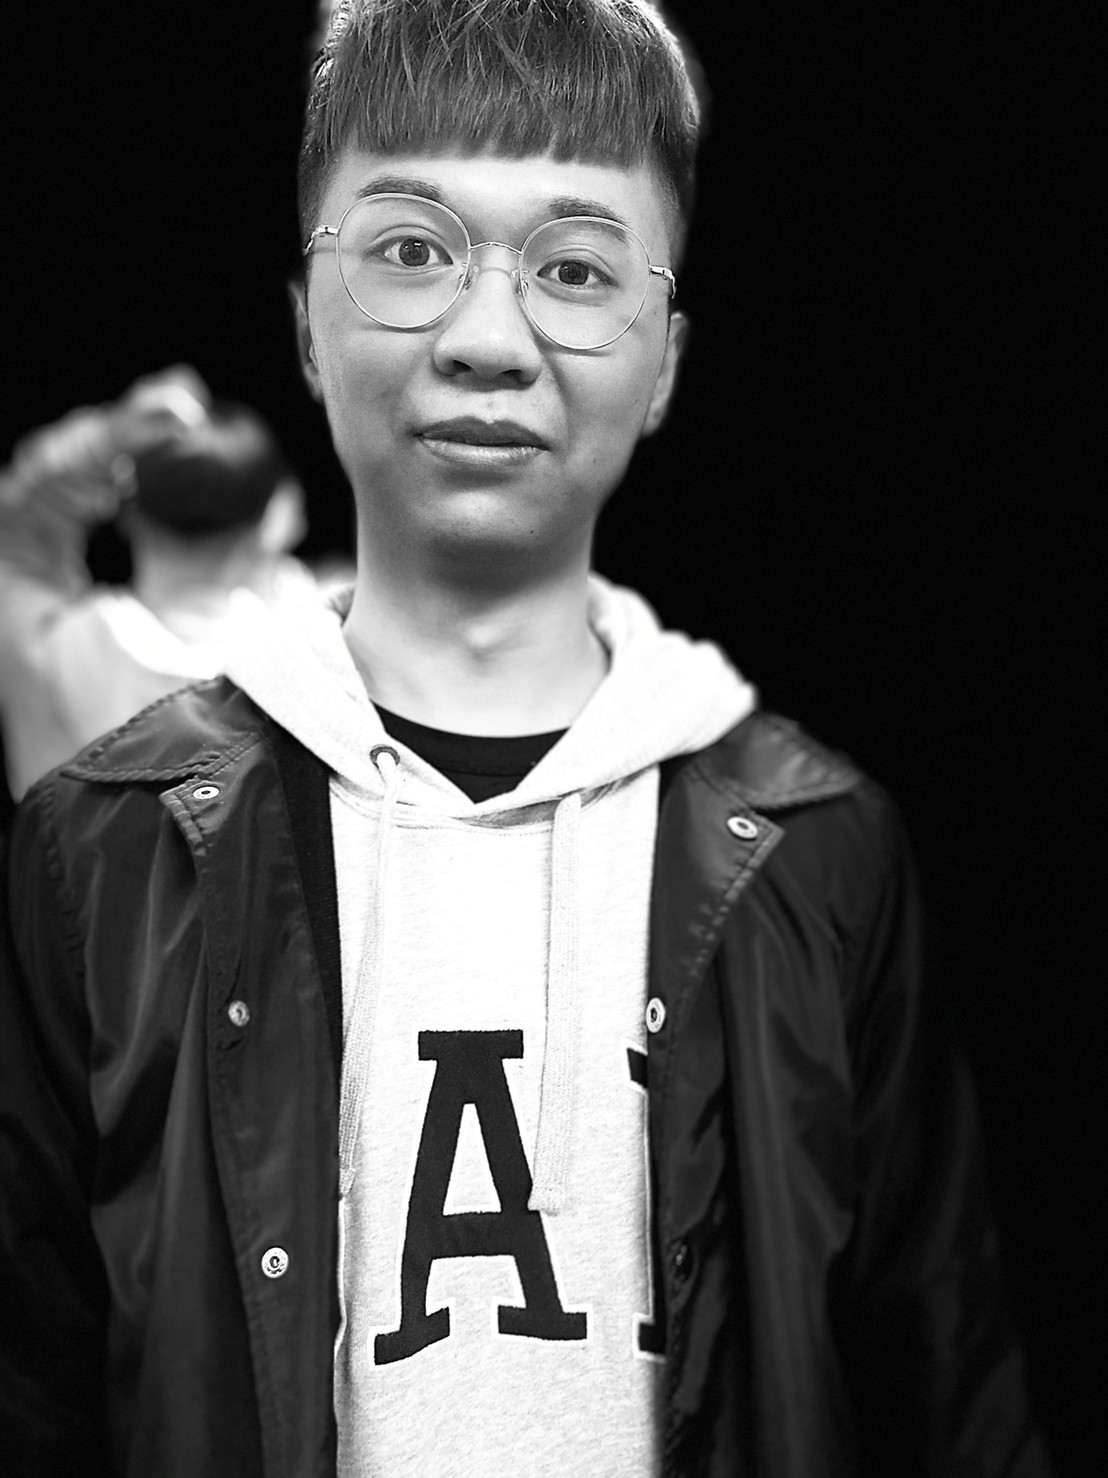people: (169, 7, 743, 1478), (45, 371, 307, 773)
